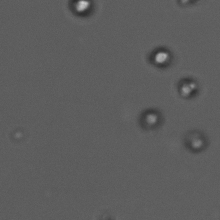Living Cell: (147, 47, 173, 71), (176, 74, 202, 98), (140, 109, 166, 133), (184, 129, 210, 153), (66, 1, 95, 18)
